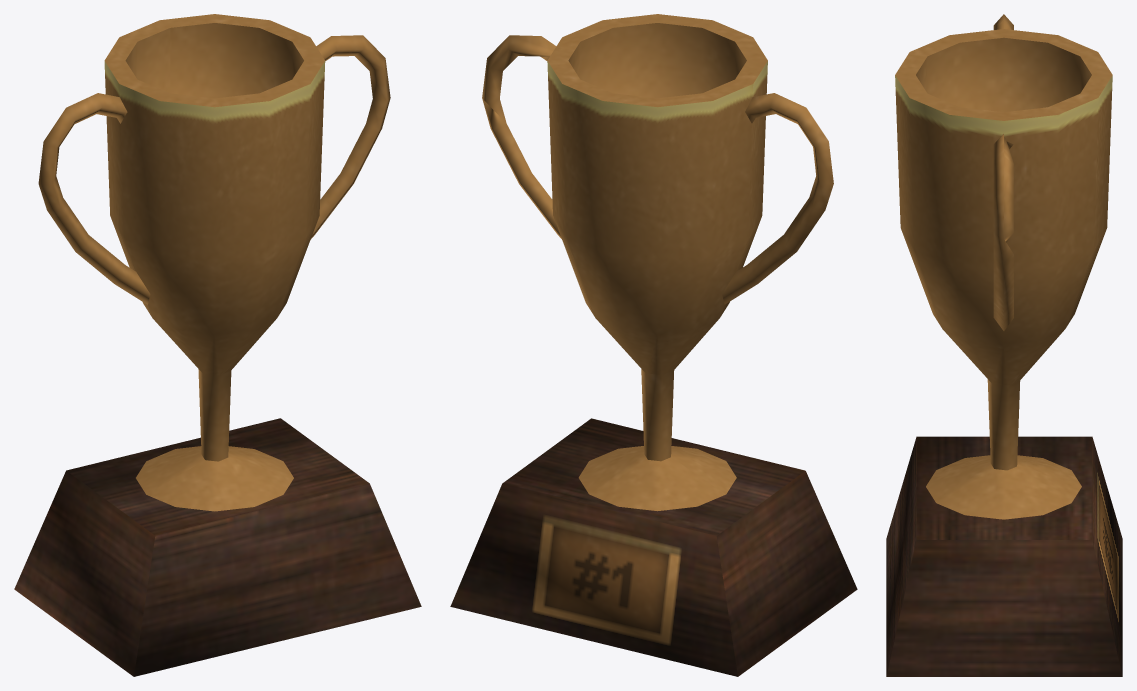
File: GAM0110017.fbx
3 views of the same model, side by side, from view 1: azimuth 30°, elevation 25°; view 2: azimuth 150°, elevation 25°; view 3: azimuth 270°, elevation 25° (orthographic).
Parts seen in each view (by area): view 1: smGAM0110017; view 2: smGAM0110017; view 3: smGAM0110017.
Part boxes in pixels (x1,y1,x2,y2): smGAM0110017: (14, 14, 421, 676); smGAM0110017: (450, 14, 857, 676); smGAM0110017: (886, 14, 1122, 676).
Size of the model in its own units: 25.71 by 37.58 by 15.14.
1 material, 1 textured.
